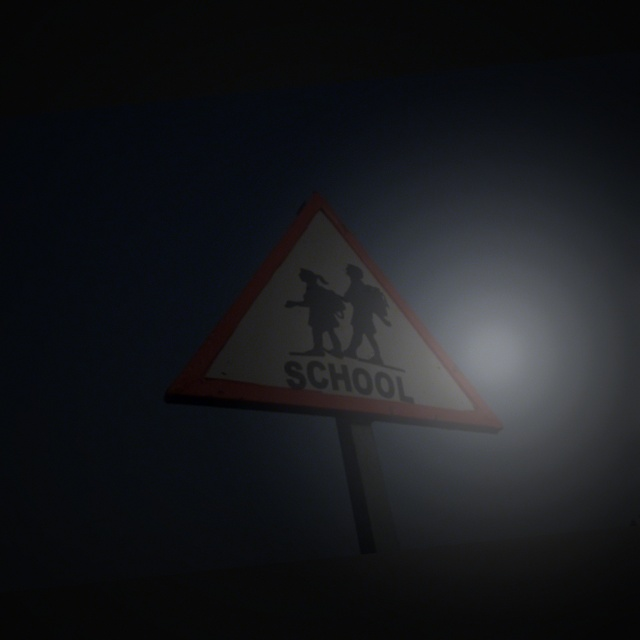School_Ahead: (180, 174, 486, 460)
